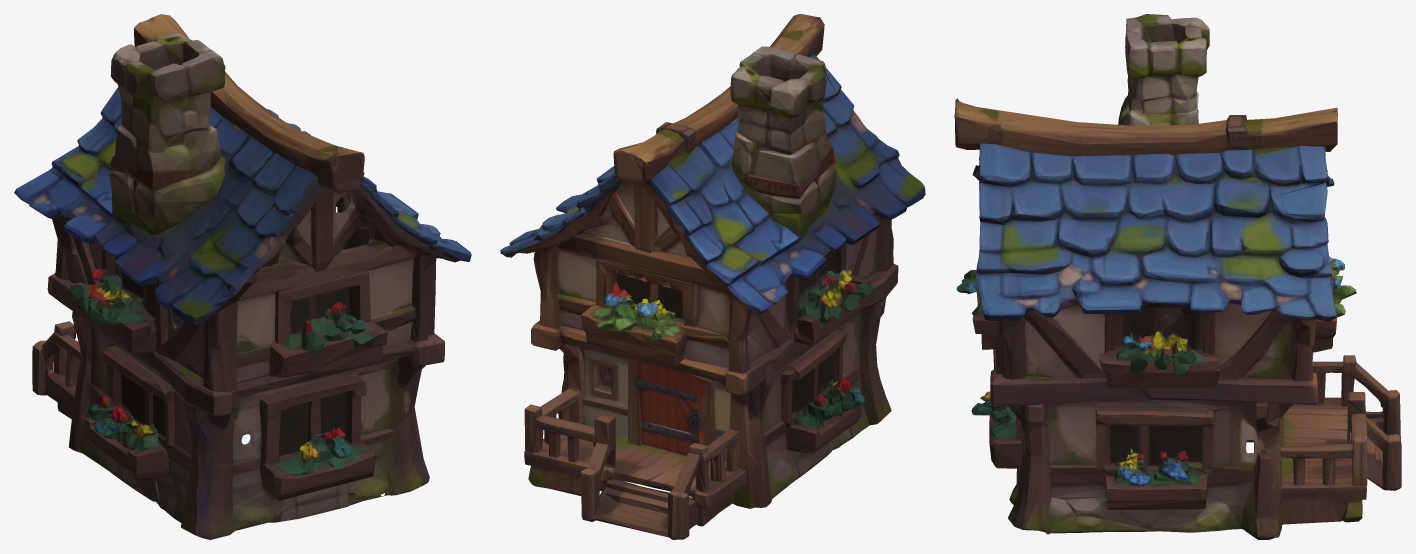
File: house_blue.glb
The picture shows the model from 3 angles, left to right: view 1: azimuth 30°, elevation 25°; view 2: azimuth 150°, elevation 25°; view 3: azimuth 270°, elevation 25°; orthographic projection. The views are drawn at different scales.
Parts seen in each view (by area): view 1: world; view 2: world; view 3: world.
Part boxes in pixels (bbox=[...]): world: bbox=[14, 14, 471, 539]; world: bbox=[500, 14, 925, 539]; world: bbox=[954, 14, 1401, 539].
Size of the model in its own units: 0.7635 by 0.9808 by 0.9485.
Materials: 1 (1 with a texture image).
